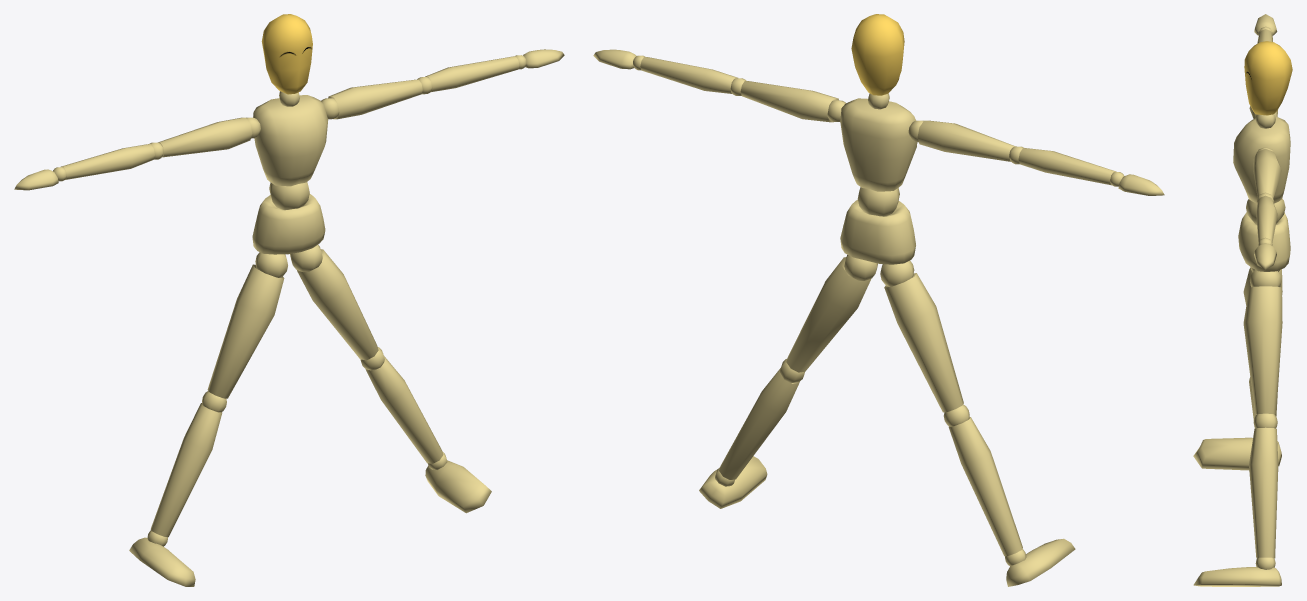
Rendered from MannaquinTexFace(1).dae.
3 views of the same model, side by side, from view 1: azimuth 30°, elevation 25°; view 2: azimuth 150°, elevation 25°; view 3: azimuth 270°, elevation 25° (orthographic). The views are drawn at different scales.
Visible parts, largest first — view 1: Cylinder_003, Cylinder_002, Cylinder_001, Cylinder_006, Cylinder, Sphere_008, Cylinder_007, Cylinder_004, Cylinder_009, Sphere_014, Sphere, Cylinder_005 (+3 smaller); view 2: Cylinder_003, Cylinder_002, Cylinder_001, Cylinder_006, Cylinder, Sphere_008, Cylinder_007, Cylinder_004, Cylinder_009, Cylinder_005, Cylinder_008, Sphere_014 (+3 smaller); view 3: Cylinder_006, Cylinder_007, Cylinder_003, Sphere_008, Cylinder_002, Sphere, Sphere_014, Cylinder_009, Cylinder_008, Sphere_016, Sphere_009, Cylinder_001 (+1 smaller).
Boxes of the visible parts, bbox=[...] form: Cylinder_003: bbox=[246, 91, 339, 186]; Cylinder_002: bbox=[252, 182, 325, 277]; Cylinder_001: bbox=[202, 264, 284, 412]; Cylinder_006: bbox=[297, 249, 384, 370]; Cylinder: bbox=[150, 403, 222, 537]; Sphere_008: bbox=[261, 14, 312, 94]; Cylinder_007: bbox=[365, 356, 443, 463]; Cylinder_004: bbox=[149, 117, 252, 159]; Cylinder_009: bbox=[328, 77, 432, 119]; Sphere_014: bbox=[425, 451, 491, 513]; Sphere: bbox=[129, 530, 195, 586]; Cylinder_005: bbox=[61, 144, 154, 179]; Cylinder_003: bbox=[827, 93, 923, 191]; Cylinder_002: bbox=[840, 187, 915, 286]; Cylinder_001: bbox=[884, 273, 969, 426]; Cylinder_006: bbox=[780, 257, 870, 383]; Cylinder: bbox=[948, 417, 1022, 556]; Sphere_008: bbox=[851, 14, 904, 95]; Cylinder_007: bbox=[719, 368, 799, 479]; Cylinder_004: bbox=[917, 120, 1023, 164]; Cylinder_009: bbox=[730, 78, 838, 122]; Cylinder_005: bbox=[1018, 148, 1116, 185]; Cylinder_008: bbox=[640, 56, 737, 93]; Sphere_014: bbox=[699, 456, 767, 508]; Cylinder_006: bbox=[1243, 286, 1282, 428]; Cylinder_007: bbox=[1249, 427, 1278, 558]; Cylinder_003: bbox=[1233, 114, 1290, 203]; Sphere_008: bbox=[1244, 41, 1292, 115]; Cylinder_002: bbox=[1238, 198, 1290, 287]; Sphere: bbox=[1193, 437, 1281, 470]; Sphere_014: bbox=[1193, 557, 1281, 586]; Cylinder_009: bbox=[1253, 149, 1281, 202]; Cylinder_008: bbox=[1256, 195, 1277, 243]; Sphere_016: bbox=[1254, 237, 1276, 269]; Sphere_009: bbox=[1254, 14, 1277, 35]; Cylinder_001: bbox=[1243, 268, 1282, 304].
Size of the model in its own units: 14.87 by 2.47 by 13.3.
2 materials, 1 textured.
